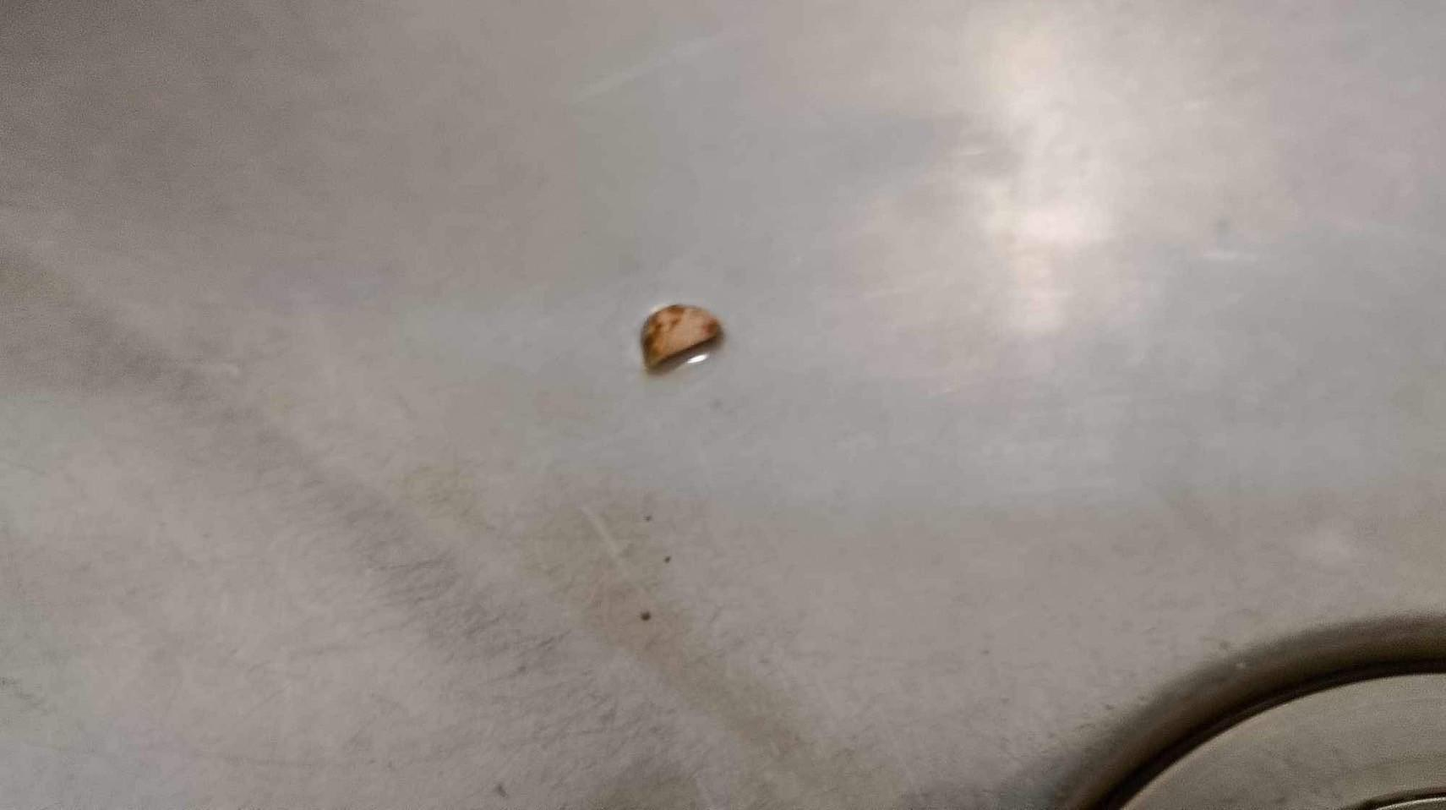General: (4, 3, 1438, 806)
Infectious: (639, 302, 721, 369)
